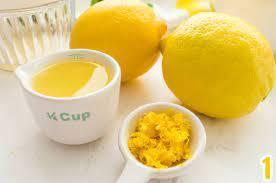lemon: (158, 10, 276, 119), (69, 0, 168, 82)
